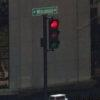Traffic light: (37, 3, 66, 57)
